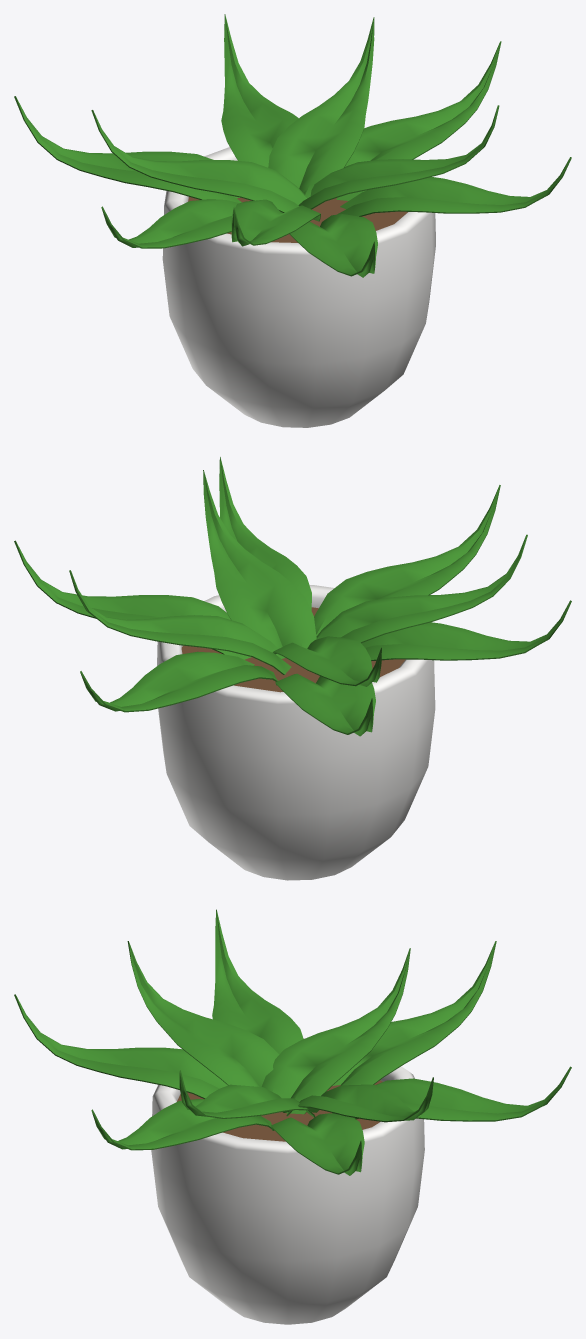
The model's file is Plant_14.glb.
The picture shows the model from 3 angles, top to bottom: view 1: azimuth 30°, elevation 25°; view 2: azimuth 150°, elevation 25°; view 3: azimuth 270°, elevation 25°; orthographic projection. The views are drawn at different scales.
Parts seen in each view (by area): view 1: Plant_14; view 2: Plant_14; view 3: Plant_14.
Boxes of the visible parts, x1,y1,x2,y2 form: Plant_14: [14, 14, 571, 427]; Plant_14: [14, 457, 571, 880]; Plant_14: [14, 909, 571, 1324].
Bounding box in the file's own units: 0.4216 × 0.2581 × 0.4337.
Materials: 1 (1 with a texture image).
